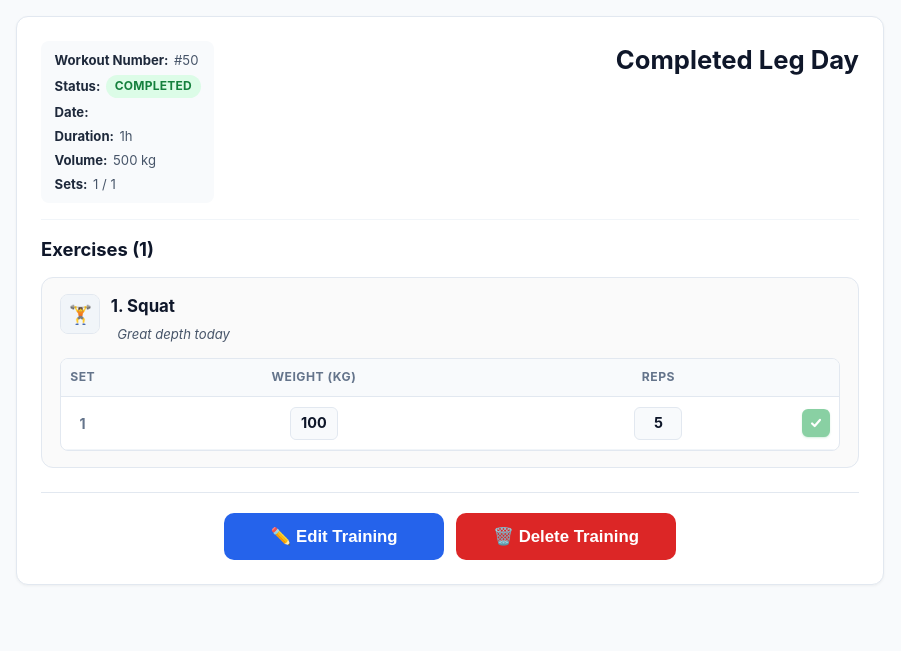
Test: WorkoutDetailComponent › Completed workout read-only mode and Edit Training toggle › should unlock all fields when Edit Training is clicked and lock them when Done Editing is clicked
Click Edit Training
Click the button with class "btn-edit-training": point(334, 537) [224, 514, 444, 560]
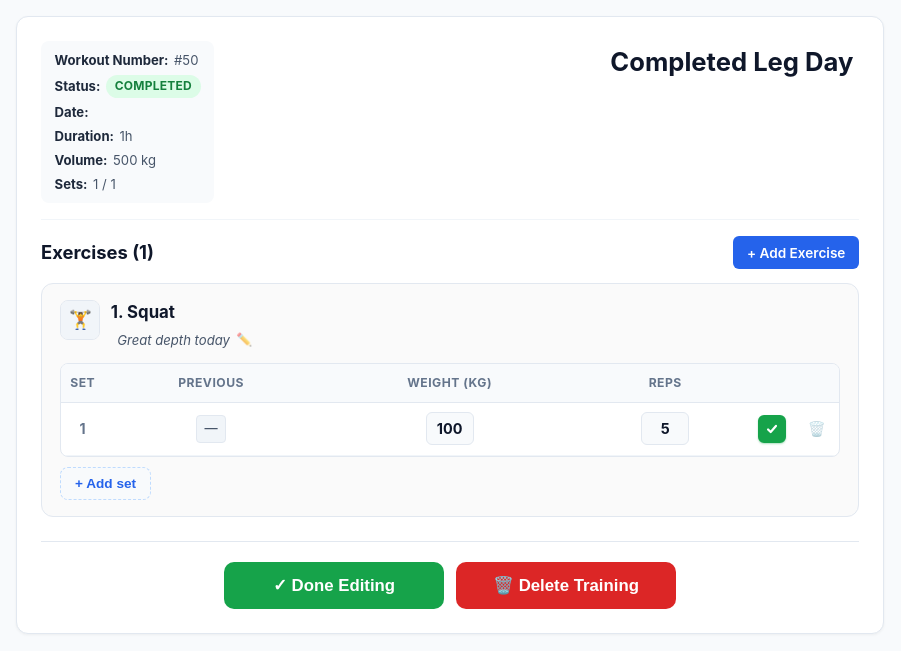
expect the link with class "btn-add" is shown: met, box [733, 236, 859, 269]
expect the cell with class "col-editable" showing "100" is shown: met, box [318, 402, 581, 456]
expect the cell with class "col-delete" is shown: met, box [795, 402, 839, 456]
Click Done Editing
Click the button with class "btn-done-editing": point(334, 586) [224, 562, 444, 609]
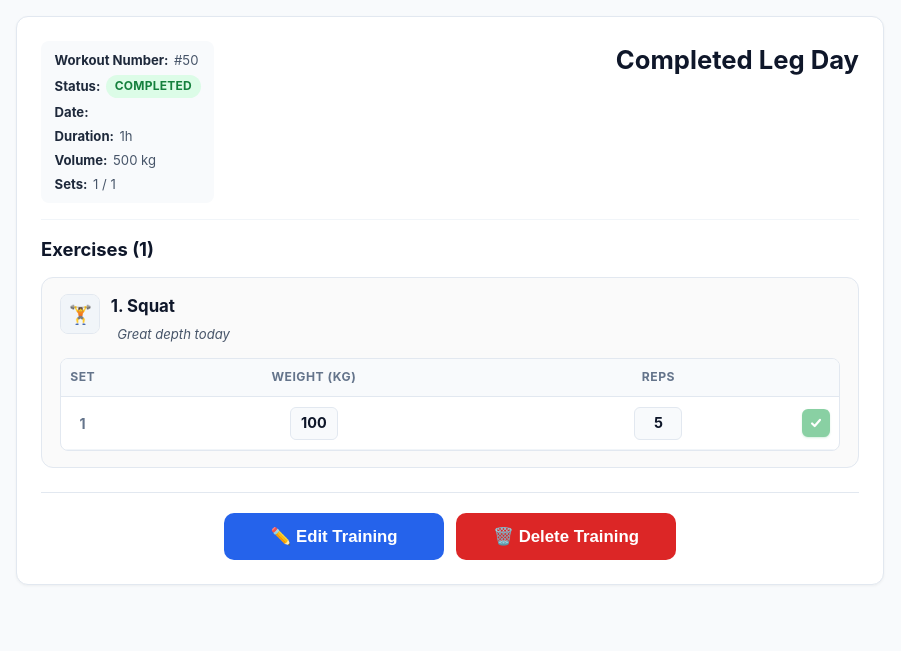
expect the heading with class "clickable-title" is gone: met
expect the link with class "btn-add" is gone: met
expect the button with class "btn-edit-notes" is gone: met
